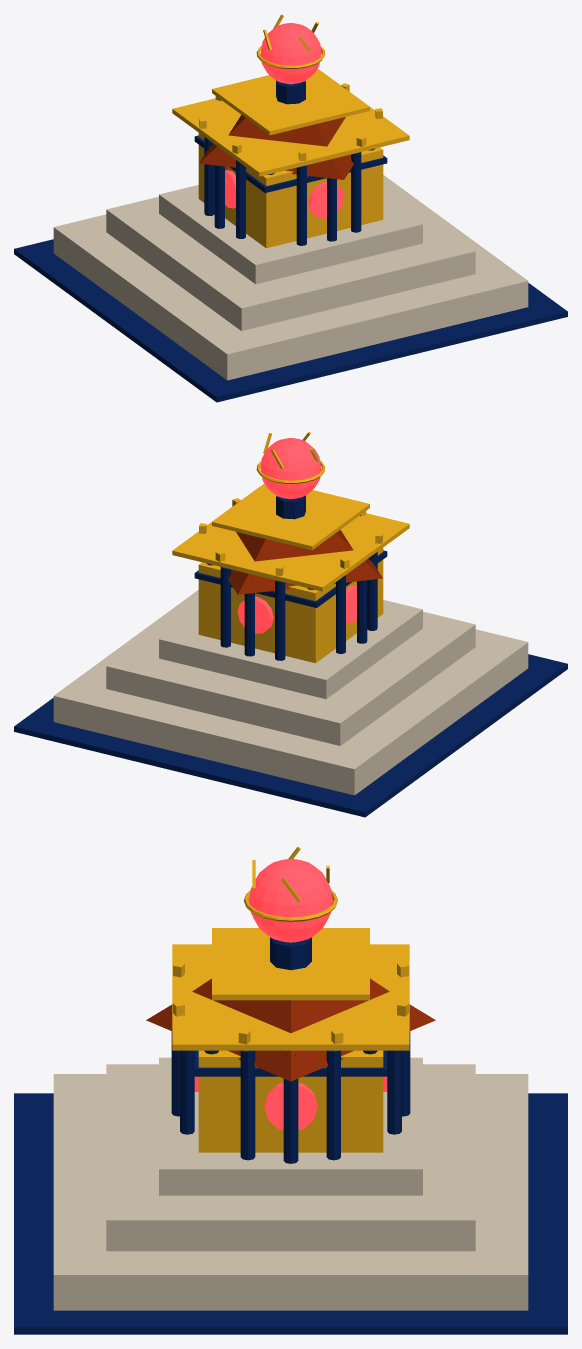
Rendered from hcmussh_hq.glb.
3 views of the same model, one above another, from view 1: azimuth 30°, elevation 25°; view 2: azimuth 150°, elevation 25°; view 3: azimuth 270°, elevation 25° (orthographic). The views are drawn at different scales.
Visible parts, largest first — view 1: HCMUSSH_StoneTier_0, HCMUSSH_StoneTier_1, HCMUSSH_WaterMirror, HCMUSSH_StoneTier_2, HCMUSSH_Roof1_Cap, HCMUSSH_Hall, HCMUSSH_Roof2_Cap, HCMUSSH_GlobeApex, HCMUSSH_Roof2, HCMUSSH_Roof1, HCMUSSH_Column_11, HCMUSSH_Column_13 (+7 smaller); view 2: HCMUSSH_StoneTier_0, HCMUSSH_StoneTier_1, HCMUSSH_WaterMirror, HCMUSSH_StoneTier_2, HCMUSSH_Roof1_Cap, HCMUSSH_Hall, HCMUSSH_Roof2_Cap, HCMUSSH_GlobeApex, HCMUSSH_Roof2, HCMUSSH_Roof1, HCMUSSH_Column_5, HCMUSSH_Column_3 (+7 smaller); view 3: HCMUSSH_StoneTier_0, HCMUSSH_StoneTier_1, HCMUSSH_WaterMirror, HCMUSSH_StoneTier_2, HCMUSSH_Roof1_Cap, HCMUSSH_Hall, HCMUSSH_Roof2_Cap, HCMUSSH_GlobeApex, HCMUSSH_Roof2, HCMUSSH_Roof1, HCMUSSH_Column_15, HCMUSSH_Column_1 (+9 smaller).
Boxes of the visible parts, left/top/right/bottom form: HCMUSSH_StoneTier_0: left=53, top=175, right=528, bottom=380; HCMUSSH_StoneTier_1: left=106, top=184, right=475, bottom=330; HCMUSSH_WaterMirror: left=14, top=239, right=567, bottom=402; HCMUSSH_StoneTier_2: left=159, top=185, right=422, bottom=284; HCMUSSH_Roof1_Cap: left=172, top=72, right=409, bottom=176; HCMUSSH_Hall: left=198, top=133, right=383, bottom=248; HCMUSSH_Roof2_Cap: left=212, top=68, right=369, bottom=135; HCMUSSH_GlobeApex: left=260, top=23, right=321, bottom=84; HCMUSSH_Roof2: left=228, top=115, right=345, bottom=146; HCMUSSH_Roof1: left=199, top=143, right=353, bottom=179; HCMUSSH_Column_11: left=296, top=165, right=306, bottom=245; HCMUSSH_Column_13: left=351, top=152, right=361, bottom=232; HCMUSSH_StoneTier_0: left=53, top=590, right=528, bottom=795; HCMUSSH_StoneTier_1: left=106, top=599, right=475, bottom=745; HCMUSSH_WaterMirror: left=14, top=654, right=567, bottom=817; HCMUSSH_StoneTier_2: left=159, top=600, right=422, bottom=699; HCMUSSH_Roof1_Cap: left=172, top=487, right=409, bottom=591; HCMUSSH_Hall: left=198, top=548, right=383, bottom=663; HCMUSSH_Roof2_Cap: left=212, top=483, right=369, bottom=550; HCMUSSH_GlobeApex: left=260, top=438, right=321, bottom=499; HCMUSSH_Roof2: left=236, top=530, right=353, bottom=561; HCMUSSH_Roof1: left=228, top=558, right=382, bottom=594; HCMUSSH_Column_5: left=275, top=580, right=285, bottom=660; HCMUSSH_Column_3: left=220, top=567, right=230, bottom=647; HCMUSSH_StoneTier_0: left=53, top=1074, right=528, bottom=1310; HCMUSSH_StoneTier_1: left=106, top=1064, right=475, bottom=1251; HCMUSSH_WaterMirror: left=14, top=1093, right=567, bottom=1334; HCMUSSH_StoneTier_2: left=159, top=1057, right=422, bottom=1195; HCMUSSH_Roof1_Cap: left=172, top=944, right=409, bottom=1050; HCMUSSH_Hall: left=198, top=1050, right=383, bottom=1152; HCMUSSH_Roof2_Cap: left=212, top=928, right=369, bottom=1000; HCMUSSH_GlobeApex: left=248, top=859, right=333, bottom=942; HCMUSSH_Roof2: left=192, top=978, right=389, bottom=1033; HCMUSSH_Roof1: left=146, top=1004, right=435, bottom=1081; HCMUSSH_Column_15: left=240, top=1050, right=255, bottom=1160; HCMUSSH_Column_1: left=326, top=1050, right=340, bottom=1160.
Size of the model in its own units: 42 by 29.7 by 42.
